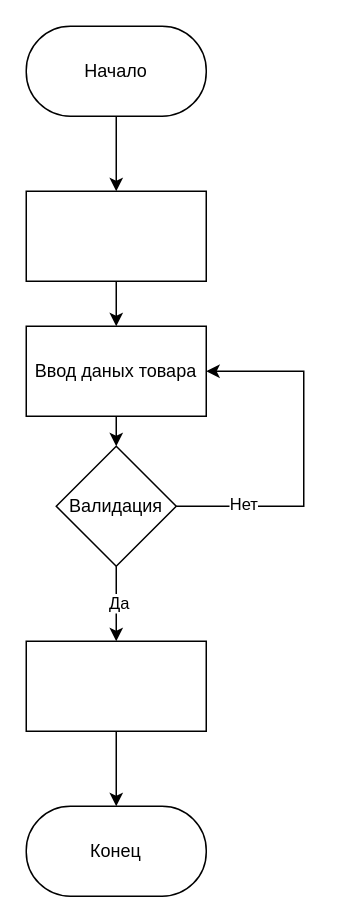
The diagram is 342 pixels wide and 923 high, and some of its shapes have lost their labels. The centre of each missing label's shape, as x and y in pixels:
Переход на форму добавления товара: point 115,235
Создание нового товара: point 115,685
